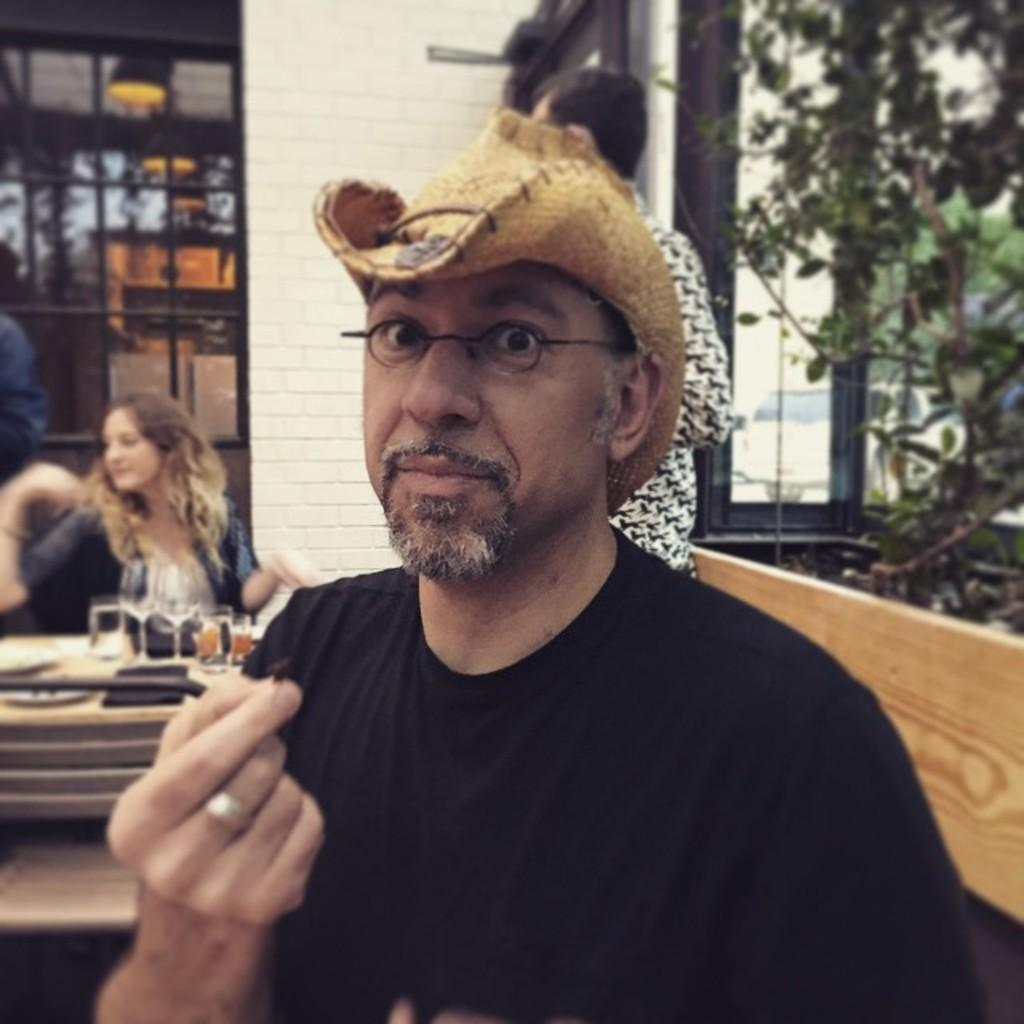Hat: (312, 106, 732, 576)
